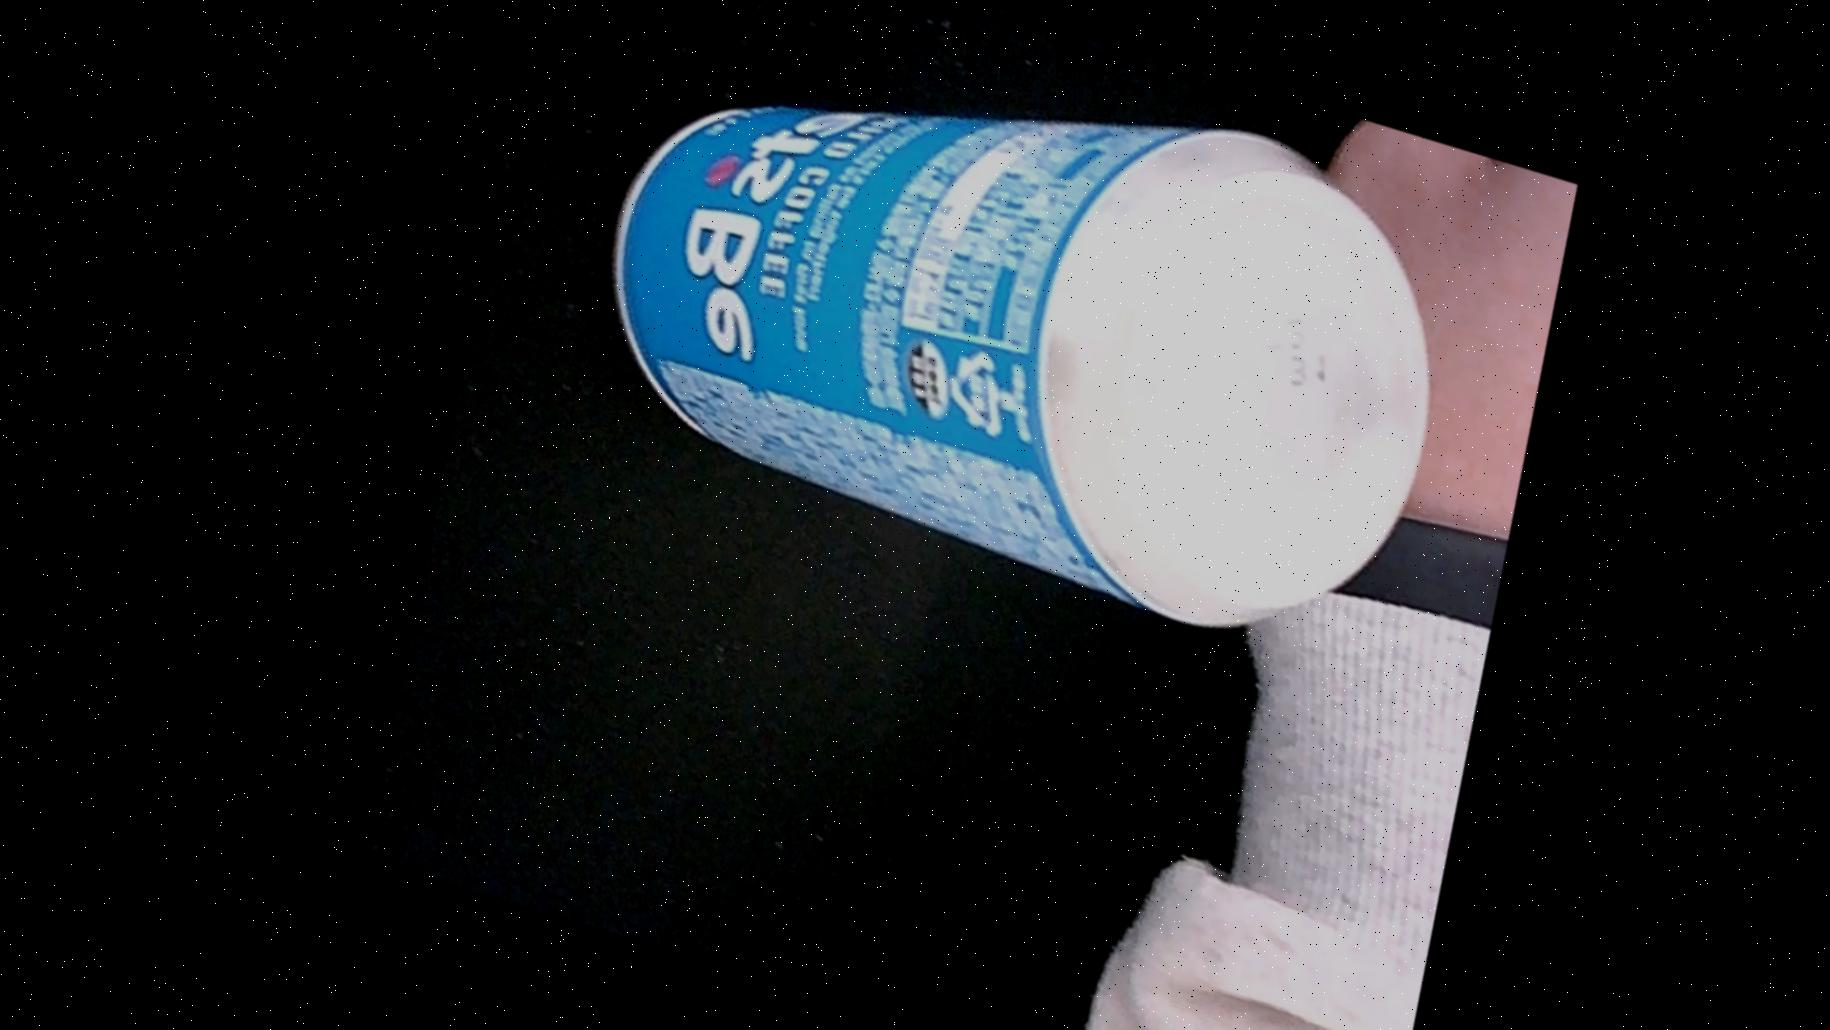letsbe: (520, 3, 1508, 681)
